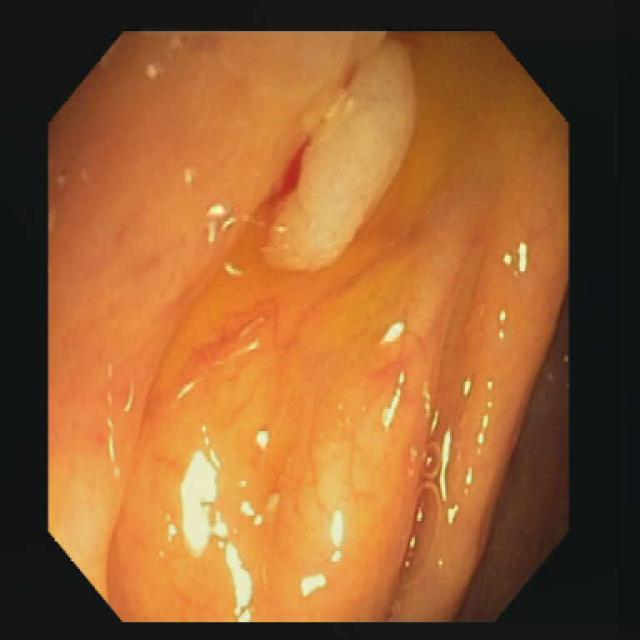tumor: (265, 36, 415, 269)
